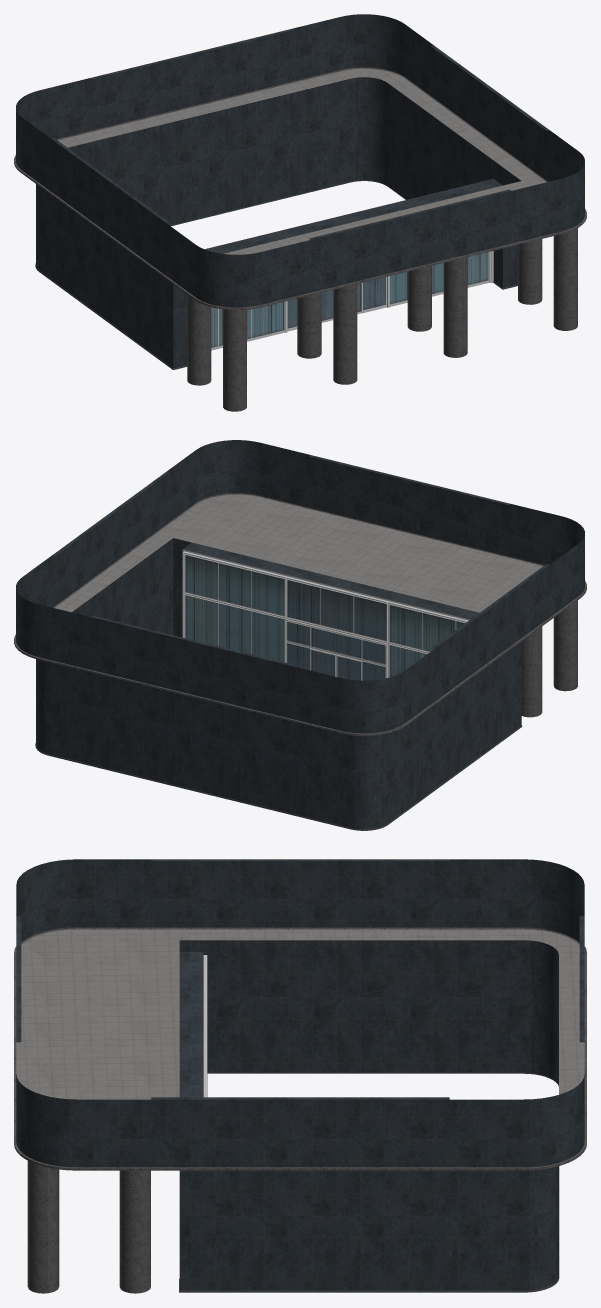
The model's file is jctBld24_E_btm_low.fbx.
3 views of the same model, one above another, from view 1: azimuth 30°, elevation 25°; view 2: azimuth 150°, elevation 25°; view 3: azimuth 270°, elevation 25° (orthographic). The views are drawn at different scales.
Parts seen in each view (by area): view 1: jctBld24_E_btm_low; view 2: jctBld24_E_btm_low; view 3: jctBld24_E_btm_low.
Boxes of the visible parts, x1,y1,x2,y2 form: jctBld24_E_btm_low: (14,14,586,411); jctBld24_E_btm_low: (14,440,586,830); jctBld24_E_btm_low: (14,859,586,1293).
Size of the model in its own units: 2370 by 930 by 2370.
